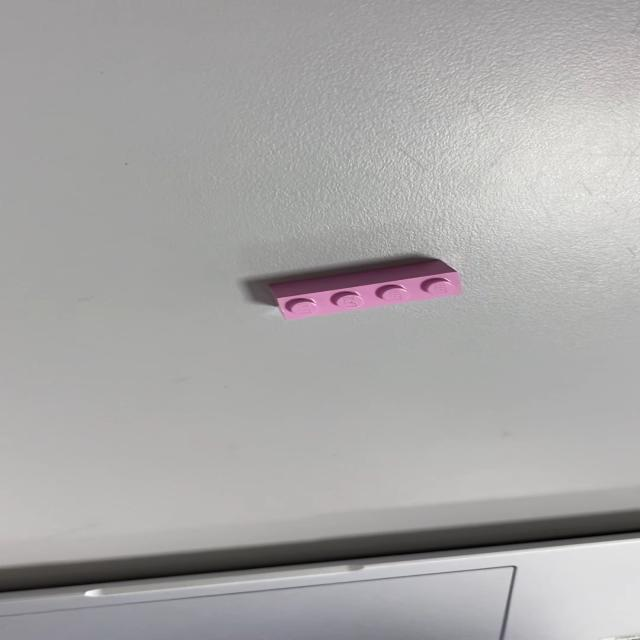C4x1x1: (265, 258, 462, 320)
